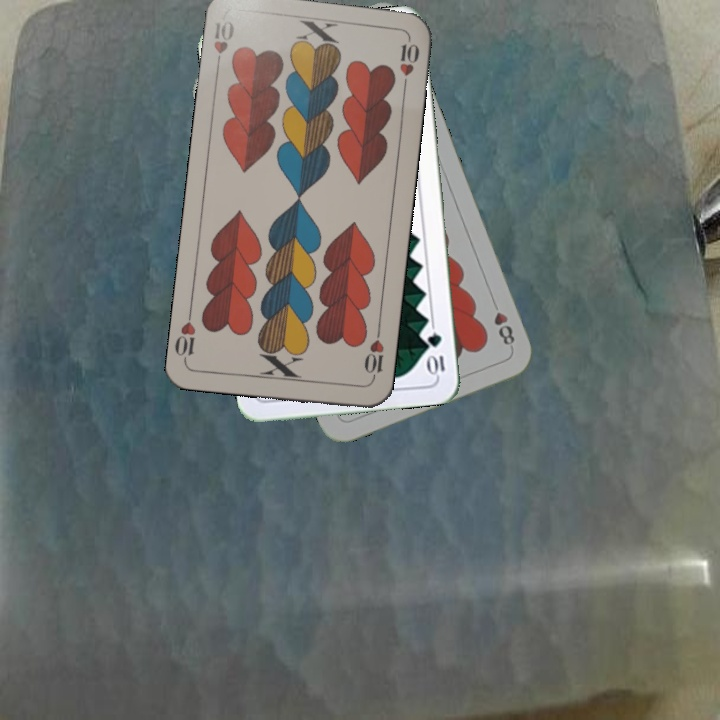G10: (424, 329, 447, 378)
H10: (209, 17, 237, 74), (360, 325, 387, 384)
H8: (487, 295, 518, 348)
